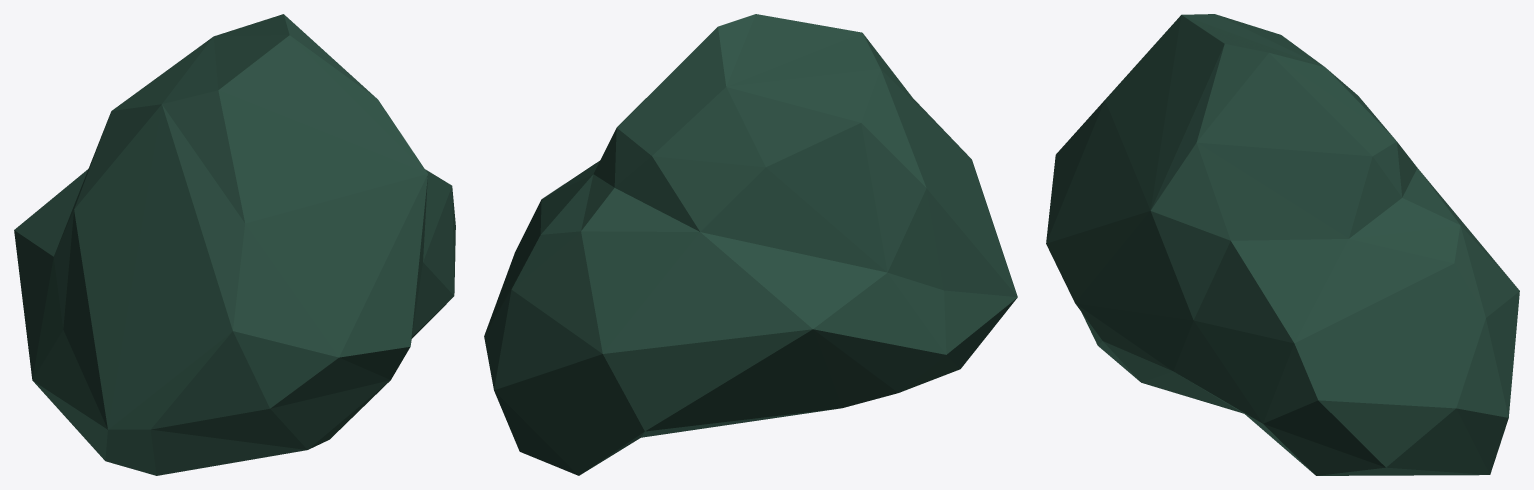
The model's file is SM_large_rock_19.fbx.
The picture shows the model from 3 angles, left to right: view 1: azimuth 30°, elevation 25°; view 2: azimuth 150°, elevation 25°; view 3: azimuth 270°, elevation 25°; orthographic projection. The views are drawn at different scales.
Parts seen in each view (by area): view 1: large_rock_19; view 2: large_rock_19; view 3: large_rock_19.
Boxes of the visible parts, bbox=[...] form: large_rock_19: bbox=[14, 14, 455, 475]; large_rock_19: bbox=[484, 14, 1017, 475]; large_rock_19: bbox=[1046, 14, 1519, 475].
Size of the model in its own units: 67.26 by 59.81 by 66.03.
